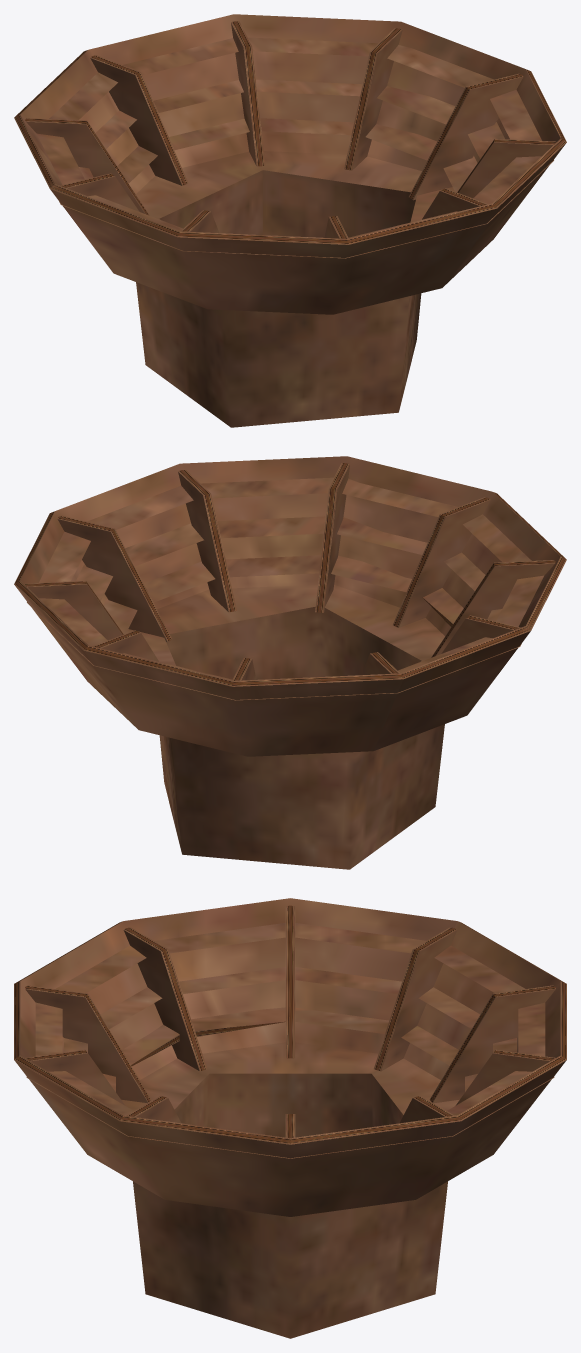
File: thm_tato_debris_s10_l2.fbx
3 views of the same model, one above another, from view 1: azimuth 30°, elevation 25°; view 2: azimuth 150°, elevation 25°; view 3: azimuth 270°, elevation 25° (orthographic). The views are drawn at different scales.
Visible parts, largest first — view 1: mesh_node; view 2: mesh_node; view 3: mesh_node.
Boxes of the visible parts, box(x1,y1,x2,y2) form: mesh_node: box(14, 14, 566, 427); mesh_node: box(14, 456, 566, 869); mesh_node: box(14, 898, 566, 1338).
Bounding box in the file's own units: 6.53 × 3.17 × 6.21.
